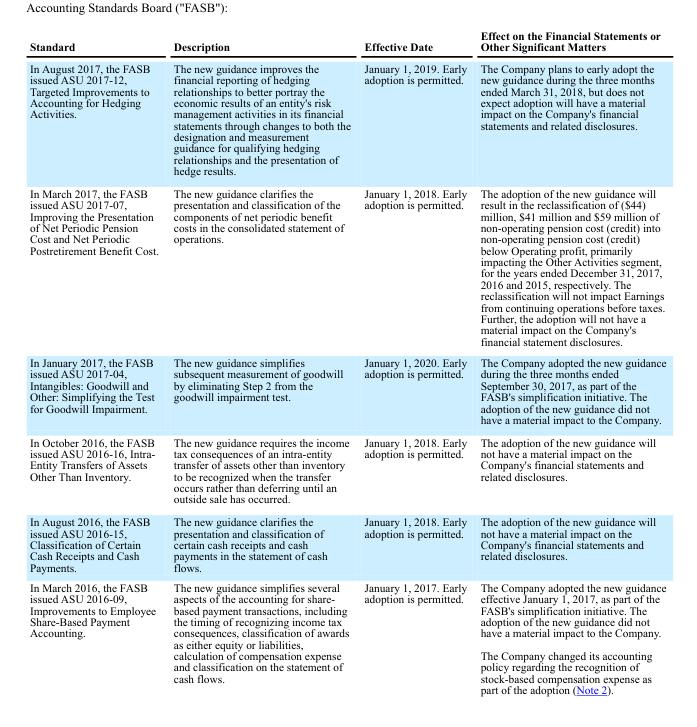table: (28, 28, 665, 695)
table column: (472, 28, 665, 695), (165, 28, 356, 695), (28, 28, 165, 695), (356, 28, 472, 695)
table column header: (28, 28, 665, 57)
table row: (28, 181, 665, 351), (28, 57, 665, 181), (28, 576, 665, 695), (28, 430, 665, 510), (28, 351, 665, 430), (28, 510, 665, 576), (28, 28, 665, 57)
